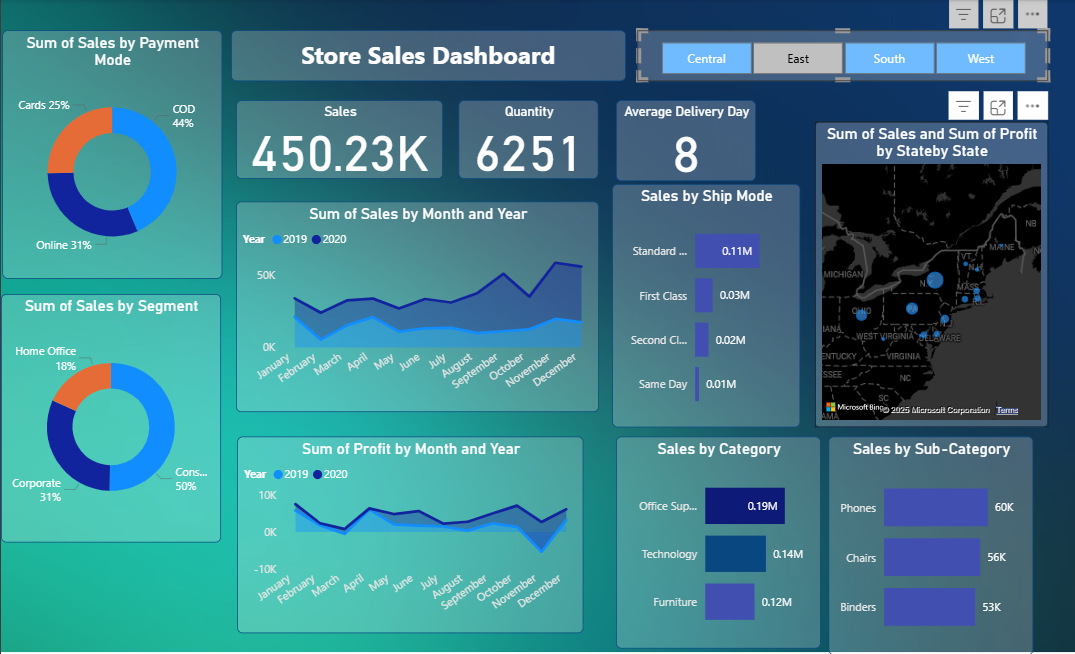

Layout of this report page (visuals, bound fields, positions):
{"tool":"powerbi","page":{"name":"Page 1","canvas":[1280,720],"ordinal":0},"visuals":[{"type":"clusteredBarChart","title":"Sales by Category","fields":{"Category":["SuperStore_Sales_Dataset.Category"],"Y":["Sum(SuperStore_Sales_Dataset.Sales)"]},"box":[675,480,225,232.5],"z":0},{"type":"clusteredBarChart","title":"Sales by Sub-Category","fields":{"Y":["Sum(SuperStore_Sales_Dataset.Sales)"],"Category":["SuperStore_Sales_Dataset.Sub-Category"]},"box":[908.8,480,225,240],"z":1000},{"type":"clusteredBarChart","title":"Sales by Ship Mode","fields":{"Category":["SuperStore_Sales_Dataset.Ship Mode"],"Y":["Sum(SuperStore_Sales_Dataset.Sales)"]},"box":[671.2,203.8,206.2,267.5],"z":2000},{"type":"stackedAreaChart","fields":{"Category":["SuperStore_Sales_Dataset.Order Date.Variation.Date Hierarchy.Month","SuperStore_Sales_Dataset.Order Date.Variation.Date Hierarchy.Day"],"Y":["Sum(SuperStore_Sales_Dataset.Sales)"],"Series":["SuperStore_Sales_Dataset.Order Date.Variation.Date Hierarchy.Year"]},"box":[257.5,222.5,398.8,231.2],"z":3000},{"type":"stackedAreaChart","fields":{"Category":["SuperStore_Sales_Dataset.Order Date.Variation.Date Hierarchy.Month","SuperStore_Sales_Dataset.Order Date.Variation.Date Hierarchy.Day"],"Series":["SuperStore_Sales_Dataset.Order Date.Variation.Date Hierarchy.Year"],"Y":["Sum(SuperStore_Sales_Dataset.Profit)"]},"box":[260,480,380,216.2],"z":4000},{"type":"map","title":"Sum of Sales and Sum of Profit by Stateby State","fields":{"Category":["SuperStore_Sales_Dataset.State"],"Size":["Sum(SuperStore_Sales_Dataset.Sales)"]},"box":[893.8,135,256.2,336.2],"z":4002},{"type":"donutChart","fields":{"Category":["SuperStore_Sales_Dataset.Payment Mode"],"Y":["Sum(SuperStore_Sales_Dataset.Sales)"]},"box":[1.2,33.8,241.2,272.5],"z":4004},{"type":"donutChart","fields":{"Category":["SuperStore_Sales_Dataset.Segment"],"Y":["Sum(SuperStore_Sales_Dataset.Sales)"]},"box":[0,323.8,241.2,272.5],"z":4005},{"type":"slicer","fields":{"Values":["SuperStore_Sales_Dataset.Region"]},"box":[698.8,33.8,451.2,56.2],"z":4006},{"type":"textbox","box":[252.5,33.8,433.8,56.2],"z":4007},{"type":"card","title":"Sales","fields":{"Values":["Sum(SuperStore_Sales_Dataset.Sales)"]},"box":[257.5,111.2,227.5,86.2],"z":4008},{"type":"card","title":"Quantity","fields":{"Values":["Sum(SuperStore_Sales_Dataset.Quantity)"]},"box":[502.5,111.2,153.8,86.2],"z":4009},{"type":"card","title":"Average Delivery Day","fields":{"Values":["Avg(SuperStore_Sales_Dataset.AvgDelivery)"]},"box":[675,111.2,153.8,88.8],"z":4010}]}

Visuals, with their boxes on the page's 1280x720 design canvas (x1, y1, x2, y2). These are canvas units, not pixel positions in the 1075x654 screenshot, which may show the page scaled, cropped or inside an application window:
"Sales by Category" clusteredBarChart: 675, 480, 900, 712
"Sales by Sub-Category" clusteredBarChart: 909, 480, 1134, 720
"Sales by Ship Mode" clusteredBarChart: 671, 204, 877, 471
stackedAreaChart - SuperStore_Sales_Dataset.Order Date.Variation.Date Hierarchy.Month x SuperStore_Sales_Dataset.Order Date.Variation.Date Hierarchy.Day: 258, 222, 656, 454
stackedAreaChart - SuperStore_Sales_Dataset.Order Date.Variation.Date Hierarchy.Month x SuperStore_Sales_Dataset.Order Date.Variation.Date Hierarchy.Day: 260, 480, 640, 696
"Sum of Sales and Sum of Profit by Stateby State" map: 894, 135, 1150, 471
donutChart - SuperStore_Sales_Dataset.Payment Mode x Sum(SuperStore_Sales_Dataset.Sales): 1, 34, 242, 306
donutChart - SuperStore_Sales_Dataset.Segment x Sum(SuperStore_Sales_Dataset.Sales): 0, 324, 241, 596
slicer - SuperStore_Sales_Dataset.Region: 699, 34, 1150, 90
textbox: 252, 34, 686, 90
"Sales" card: 258, 111, 485, 197
"Quantity" card: 502, 111, 656, 197
"Average Delivery Day" card: 675, 111, 829, 200
